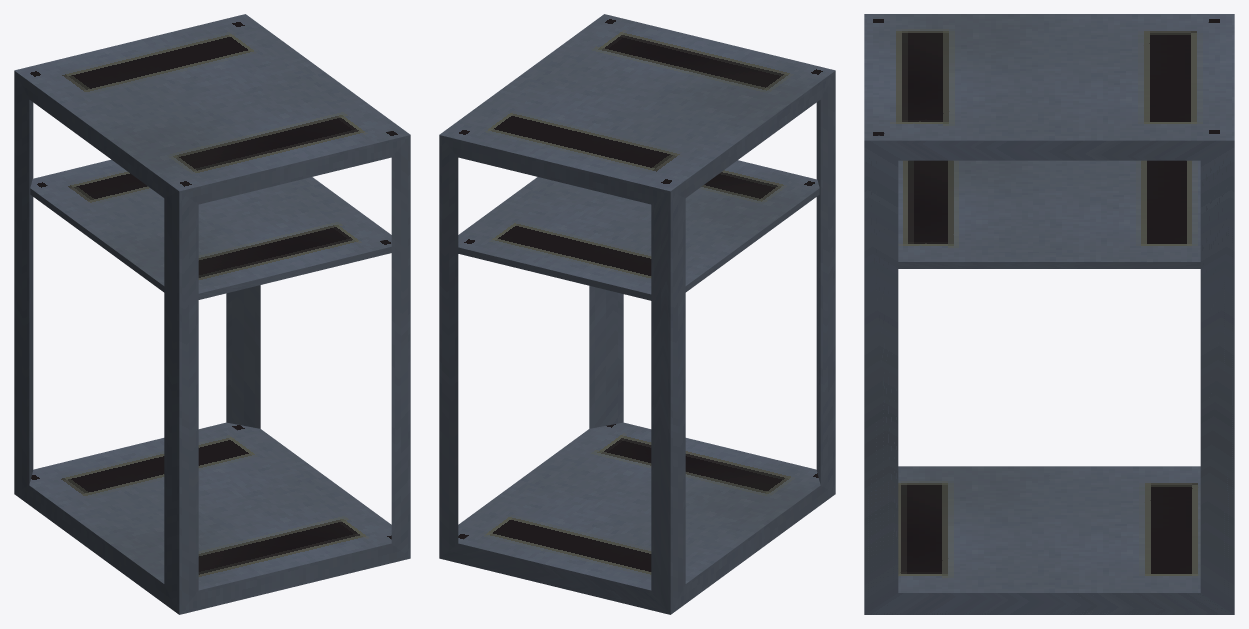
The model's file is serverrack.fbx.
The picture shows the model from 3 angles, left to right: view 1: azimuth 30°, elevation 25°; view 2: azimuth 150°, elevation 25°; view 3: azimuth 270°, elevation 25°; orthographic projection. The views are drawn at different scales.
Visible parts, largest first — view 1: rack1; view 2: rack1; view 3: rack1.
Part boxes in pixels (x1,y1,x2,y2): rack1: [14, 14, 410, 614]; rack1: [439, 14, 835, 614]; rack1: [864, 14, 1234, 614].
Size of the model in its own units: 122 by 213 by 151.
